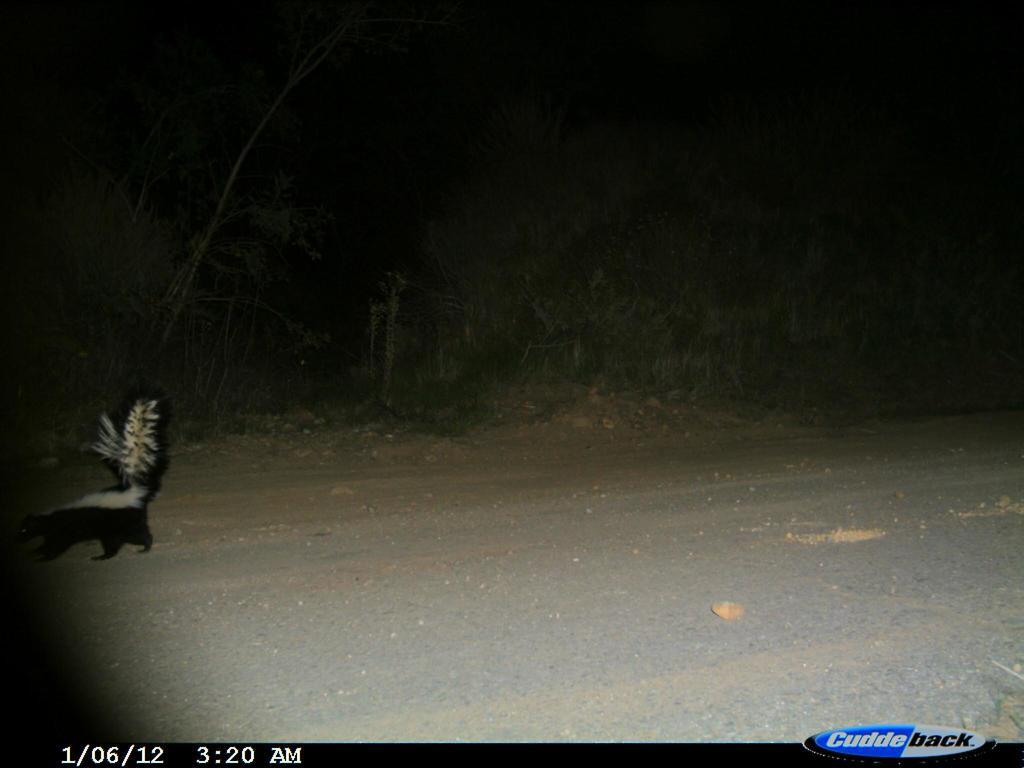skunk: (9, 382, 184, 577)
